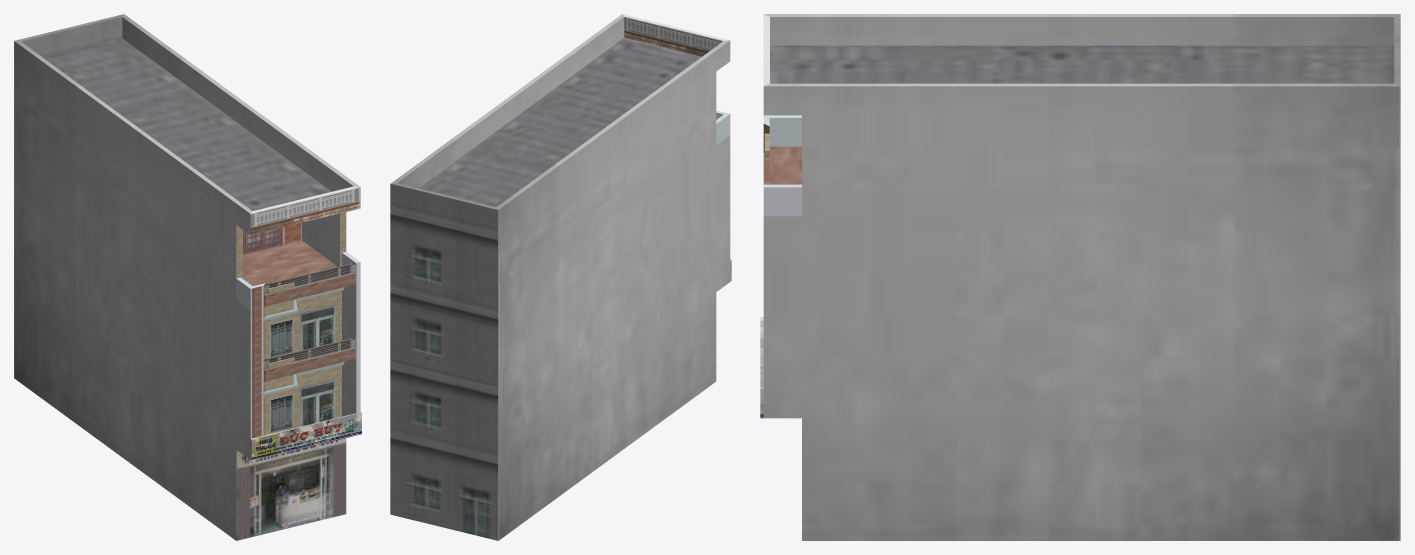
3 views of the same model, side by side, from view 1: azimuth 30°, elevation 25°; view 2: azimuth 150°, elevation 25°; view 3: azimuth 270°, elevation 25° (orthographic). The views are drawn at different scales.
Parts seen in each view (by area): view 1: 5da93f5ac66a21164047c6b0; view 2: 5da93f5ac66a21164047c6b0; view 3: 5da93f5ac66a21164047c6b0.
Part boxes in pixels (box(x1,y1,x2,y2)): 5da93f5ac66a21164047c6b0: box(14, 14, 361, 540); 5da93f5ac66a21164047c6b0: box(390, 14, 731, 540); 5da93f5ac66a21164047c6b0: box(760, 14, 1400, 540).
Bounding box in the file's own units: 5.38 × 15.75 × 20.1.
Materials: 1 (1 with a texture image).
